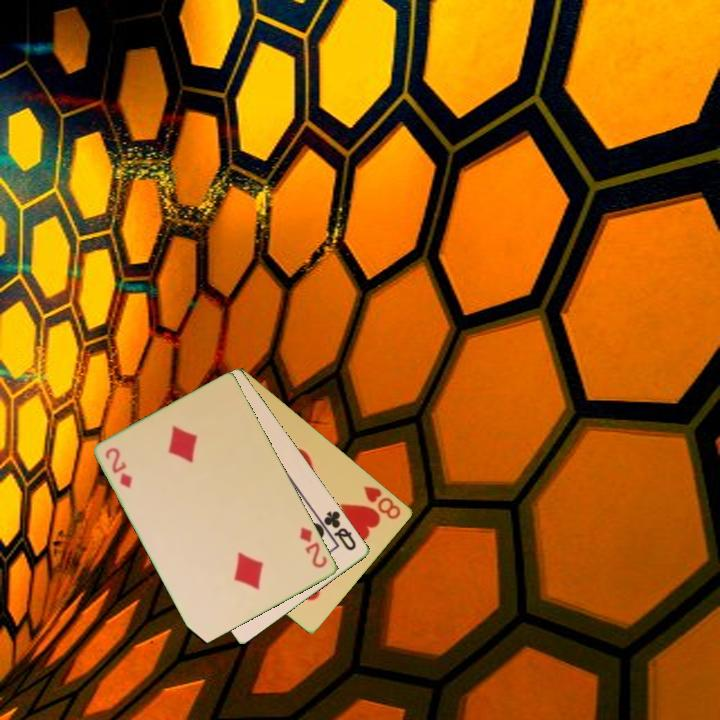2d: (296, 524, 330, 571), (102, 444, 136, 491)
8h: (360, 482, 404, 522)
Qc: (316, 507, 360, 554)
